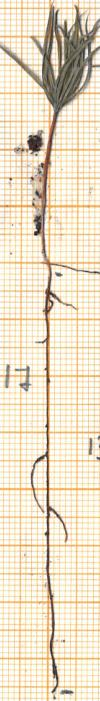flower: (1, 5, 100, 116)
root: (30, 277, 79, 692)
stem: (39, 119, 62, 274)
